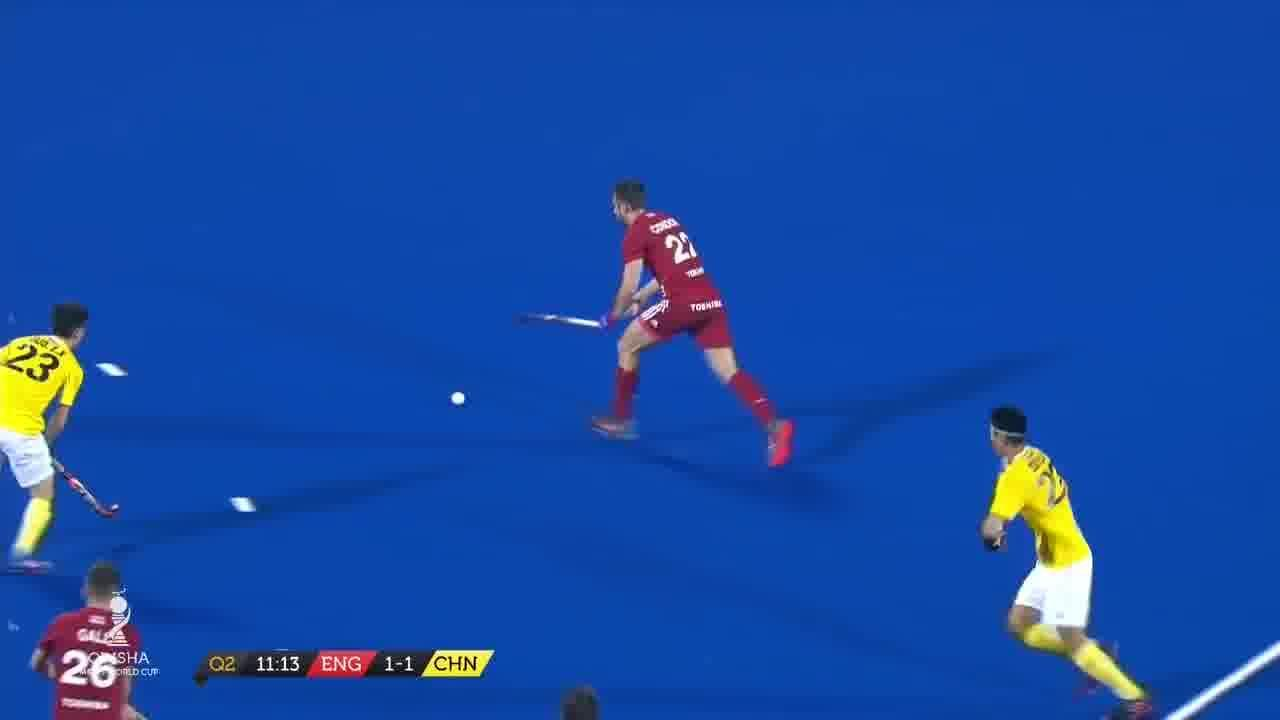ball: (437, 385, 480, 418)
